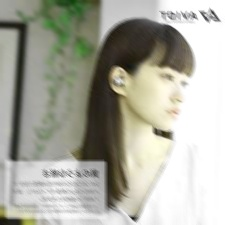earphone: (110, 66, 128, 96)
